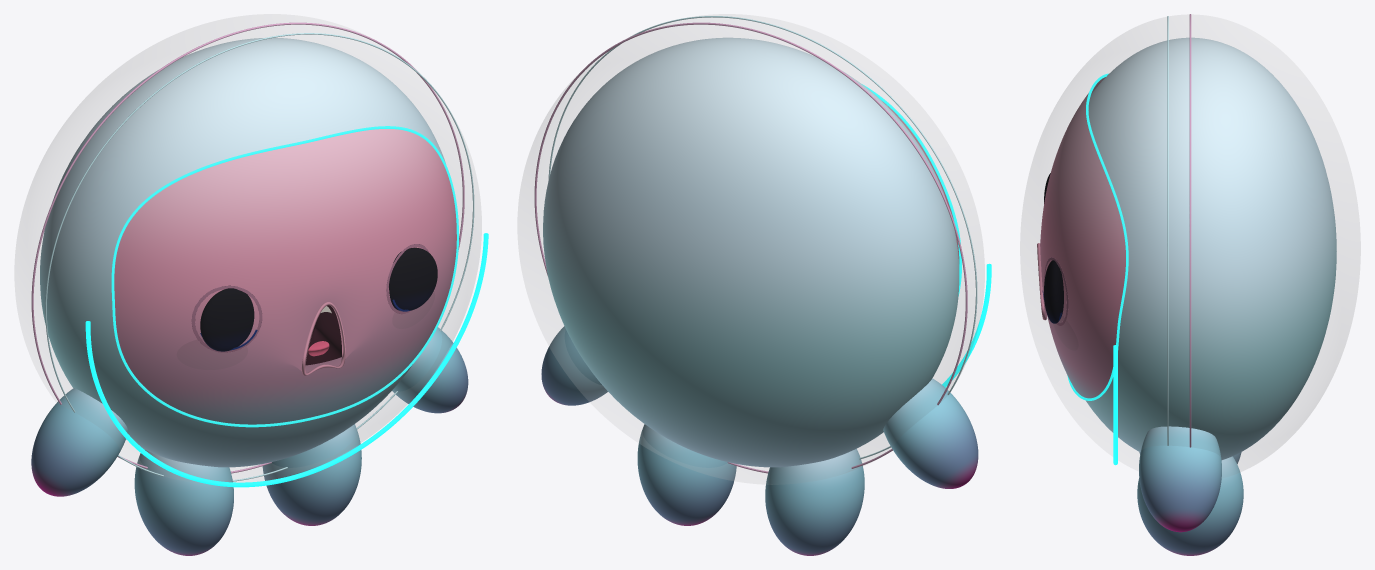
File: aina.glb
3 views of the same model, side by side, from view 1: azimuth 30°, elevation 25°; view 2: azimuth 150°, elevation 25°; view 3: azimuth 270°, elevation 25° (orthographic). The views are drawn at different scales.
Visible parts, largest first — view 1: Face • fitted skin with mouth aperture, 01 • pearl body, 05 • transparent bubble shell, Foot.L, Flipper.L, Foot.R, Flipper.R, 07 • lower cyan arc, Face • fitted luminous seam, Eye.L, Eye.R, 06 • outer pearl bubble rim (+4 smaller); view 2: 01 • pearl body, 05 • transparent bubble shell, Foot.L, Flipper.L, Foot.R, Flipper.R, 06 • outer pearl bubble rim, 06b • inner optical rim, Face • fitted luminous seam, 07 • lower cyan arc; view 3: 01 • pearl body, 05 • transparent bubble shell, Face • fitted skin with mouth aperture, Flipper.R, Foot.R, 06 • outer pearl bubble rim, Face • fitted luminous seam, Eye.R, 06b • inner optical rim, 07 • lower cyan arc.
Part boxes in pixels (x1=…): Face • fitted skin with mouth aperture: x1=114, y1=129, x2=456, y2=424; 01 • pearl body: x1=40, y1=37, x2=445, y2=467; 05 • transparent bubble shell: x1=15, y1=14, x2=481, y2=481; Foot.L: x1=134, y1=450, x2=233, y2=555; Flipper.L: x1=31, y1=388, x2=128, y2=496; Foot.R: x1=262, y1=424, x2=361, y2=525; Flipper.R: x1=392, y1=327, x2=468, y2=413; 07 • lower cyan arc: x1=85, y1=233, x2=488, y2=487; Face • fitted luminous seam: x1=111, y1=126, x2=458, y2=427; Eye.L: x1=200, y1=288, x2=254, y2=351; Eye.R: x1=389, y1=247, x2=437, y2=310; 06 • outer pearl bubble rim: x1=31, y1=22, x2=464, y2=473; 01 • pearl body: x1=543, y1=37, x2=959, y2=467; 05 • transparent bubble shell: x1=518, y1=14, x2=984, y2=483; Foot.L: x1=765, y1=449, x2=864, y2=555; Flipper.L: x1=883, y1=378, x2=978, y2=488; Foot.R: x1=637, y1=424, x2=736, y2=525; Flipper.R: x1=541, y1=326, x2=607, y2=405; 06 • outer pearl bubble rim: x1=534, y1=22, x2=967, y2=473; 06b • inner optical rim: x1=548, y1=16, x2=977, y2=459; Face • fitted luminous seam: x1=862, y1=84, x2=961, y2=296; 07 • lower cyan arc: x1=942, y1=263, x2=991, y2=387; 01 • pearl body: x1=1086, y1=37, x2=1336, y2=459; 05 • transparent bubble shell: x1=1020, y1=15, x2=1360, y2=473; Face • fitted skin with mouth aperture: x1=1040, y1=77, x2=1125, y2=398; Flipper.R: x1=1139, y1=426, x2=1221, y2=532; Foot.R: x1=1137, y1=456, x2=1243, y2=555; 06 • outer pearl bubble rim: x1=1189, y1=14, x2=1191, y2=447; Face • fitted luminous seam: x1=1067, y1=73, x2=1128, y2=400; Eye.R: x1=1044, y1=260, x2=1063, y2=323; 06b • inner optical rim: x1=1167, y1=16, x2=1168, y2=445; 07 • lower cyan arc: x1=1113, y1=345, x2=1117, y2=465.
Size of the model in its own units: 2.89 by 3.23 by 2.05.
